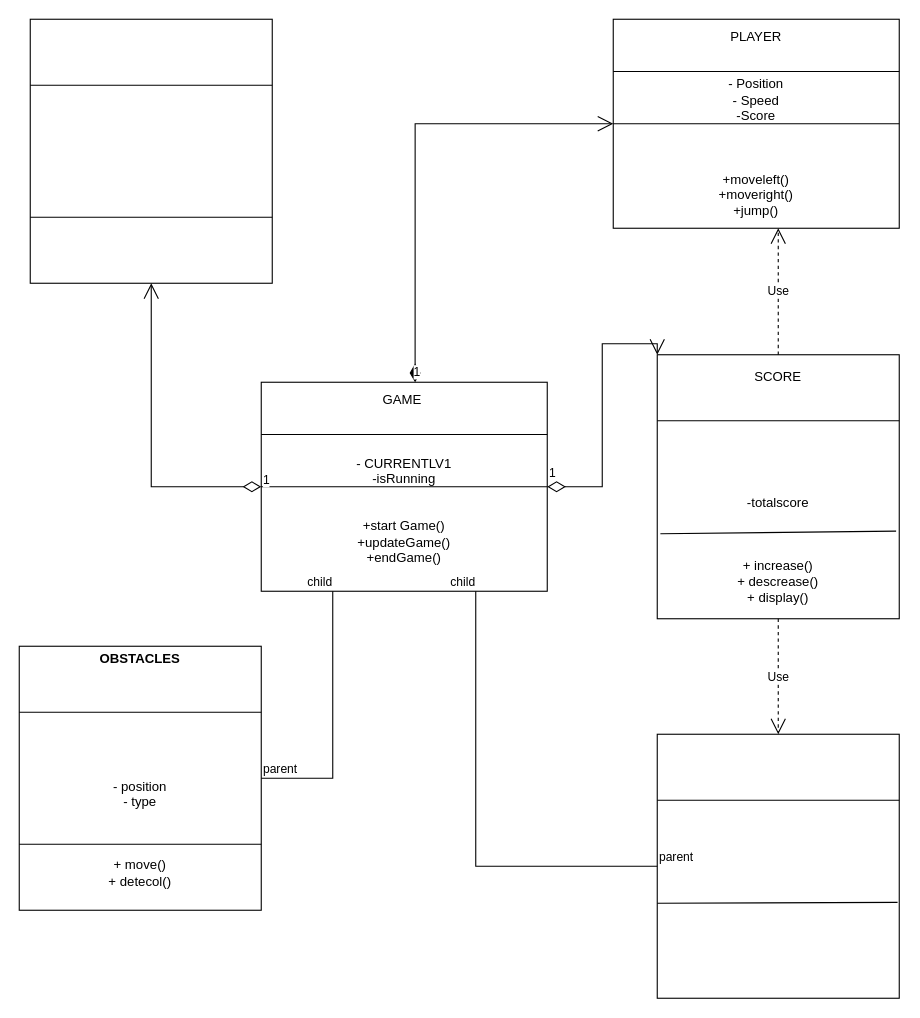
Some shapes in this 920 by 1018 pixel diagram are drawn without their labels. Each missing label, with the centre of its shape:
"DIFFICULTY - level - speed + increase() + adjust()" belongs at pixel 150 150.
"QUESTIONS - text - answers - options[ ] + generate( ) + checkAns()" belongs at pixel 777 865.
